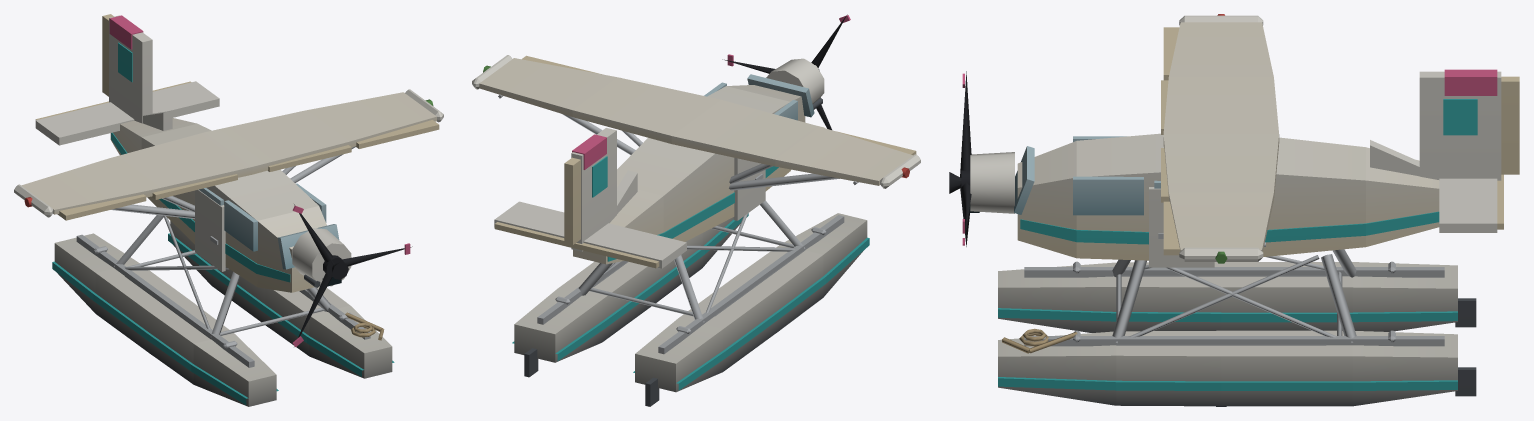
The model's file is moored_floatplane.glb.
The picture shows the model from 3 angles, left to right: view 1: azimuth 30°, elevation 25°; view 2: azimuth 150°, elevation 25°; view 3: azimuth 270°, elevation 25°; orthographic projection. The views are drawn at different scales.
Visible parts, largest first — view 1: moored_floatplane; view 2: moored_floatplane; view 3: moored_floatplane.
Part boxes in pixels (x1,y1,x2,y2): moored_floatplane: (14, 14, 443, 406); moored_floatplane: (472, 14, 920, 406); moored_floatplane: (949, 14, 1519, 406).
Bounding box in the file's own units: 6.71 × 3.74 × 6.73.
